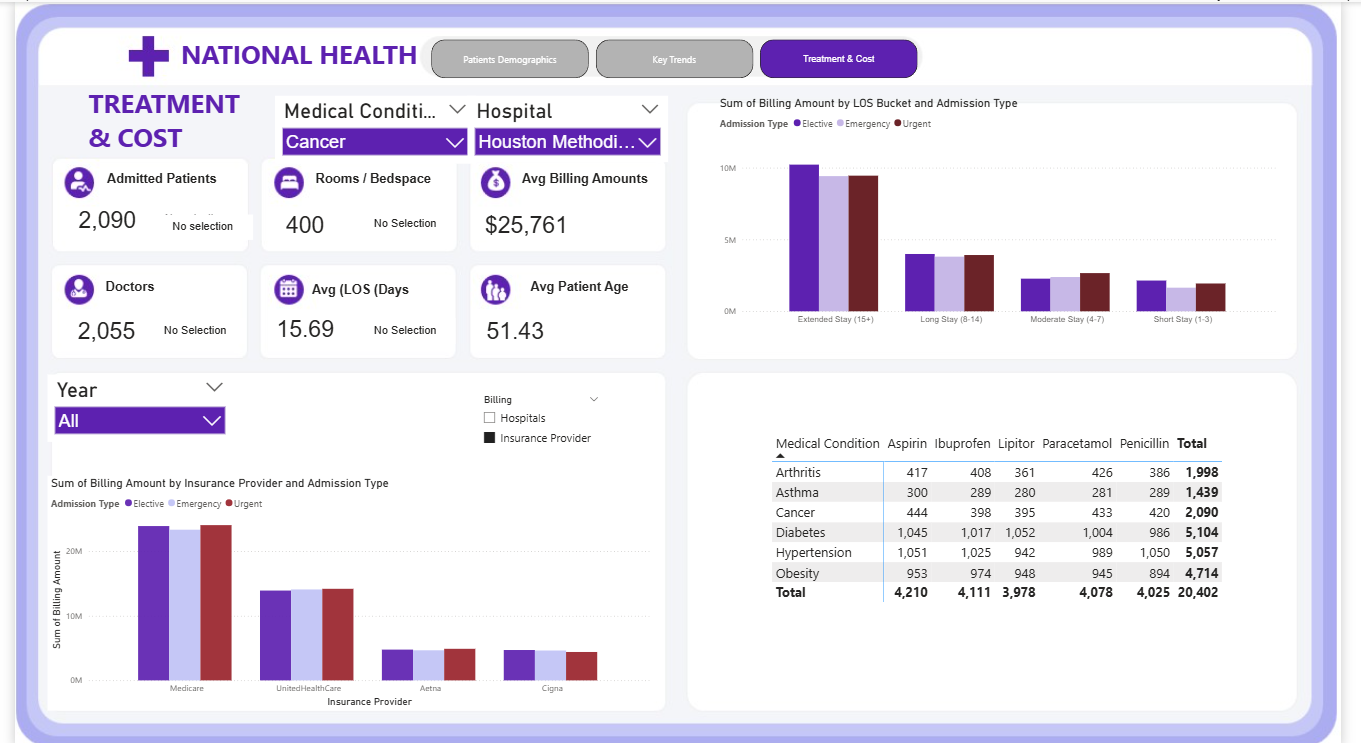

This screenshot's page, from the dashboard's own definition file:
{"tool":"powerbi","page":{"name":"Treatment & Cost","canvas":[1920,1080],"ordinal":2},"visuals":[{"type":"textbox","box":[122.9,240,191.4,44.3],"z":0},{"type":"textbox","box":[420,240,201.4,44.3],"z":1000},{"type":"textbox","box":[724.3,240,204.3,54.3],"z":2000},{"type":"textbox","box":[117.1,284.3,101.4,10],"z":3000},{"type":"textbox","box":[115.7,397.1,207.1,41.4],"z":4000},{"type":"textbox","box":[420,401.4,221.4,40],"z":5000},{"type":"textbox","box":[731.4,397.1,191.4,44.3],"z":6000},{"type":"card","fields":{"Values":["DAX.Rooms"]},"box":[334.3,288.6,171.4,68.6],"z":7000},{"type":"card","fields":{"Values":["DAX.Avg Billing Amt"]},"box":[655.7,288.6,171.4,68.6],"z":8000},{"type":"card","fields":{"Values":["DAX.Avg LOS"]},"box":[334.3,438.6,171.4,68.6],"z":9000},{"type":"card","fields":{"Values":["DAX.Average age"]},"box":[638.6,441.4,171.4,68.6],"z":10000},{"type":"card","fields":{"Values":["DAX.Adm YoY"]},"box":[188.6,297.1,145.7,37.1],"z":11000},{"type":"card","fields":{"Values":["DAX.Room YoY"]},"box":[492.9,304.3,145.7,37.1],"z":12000},{"type":"card","fields":{"Values":["DAX.Doc YoY"]},"box":[188.6,457.1,145.7,37.1],"z":13000},{"type":"card","fields":{"Values":["DAX.LOS YoY"]},"box":[492.9,457.1,145.7,37.1],"z":14000},{"type":"card","fields":{"Values":["DAX.Adm YoY"]},"box":[198.6,307.1,145.7,37.1],"z":15000},{"type":"slicer","fields":{"Values":["DimCondition.Medical Condition"]},"box":[376,136,290,98],"z":16000},{"type":"slicer","fields":{"Values":["HealthData.Hospital"]},"box":[656,136,290,96],"z":17000},{"type":"slicer","fields":{"Values":["Calendar.Year"]},"box":[47.5,540,267.5,97.5],"z":18000},{"type":"card","fields":{"Values":["DAX.Admitted Patients"]},"box":[48.6,288.6,170,52.9],"z":19000},{"type":"card","fields":{"Values":["DAX.Doctors"]},"box":[47.1,441.4,171.4,68.6],"z":20000},{"type":"clusteredColumnChart","fields":{"Category":["HealthData.LOS Bucket"],"Y":["Sum(HealthData.Billing Amount)"],"Series":["HealthData.Admission Type"]},"box":[1015,135,815,340],"z":21000},{"type":"slicer","fields":{"Values":["Billing.Billing"]},"box":[666.7,563.3,191.7,110],"z":22000},{"type":"clusteredColumnChart","fields":{"Category":["HealthData.Insurance Provider"],"Y":["Sum(HealthData.Billing Amount)"],"Series":["HealthData.Admission Type"]},"box":[47.5,685,877.5,340],"z":23000},{"type":"pivotTable","fields":{"Rows":["DimCondition.Medical Condition"],"Columns":["HealthData.Medication"],"Values":["DAX.Admitted Patients"]},"box":[1092,618,714,370],"z":24000},{"type":"textbox","box":[102,116,390,264],"z":25000},{"type":"pageNavigator","box":[602,54,704,56],"z":26000},{"type":"textbox","box":[236,46,366,72],"z":27000}]}

Visuals, with their boxes on the page's 1920x1080 design canvas (x1, y1, x2, y2). These are canvas units, not pixel positions in the 1361x743 screenshot, which may show the page scaled, cropped or inside an application window:
textbox: region(123, 240, 314, 284)
textbox: region(420, 240, 621, 284)
textbox: region(724, 240, 929, 294)
textbox: region(117, 284, 218, 294)
textbox: region(116, 397, 323, 438)
textbox: region(420, 401, 641, 441)
textbox: region(731, 397, 923, 441)
card - DAX.Rooms: region(334, 289, 506, 357)
card - DAX.Avg Billing Amt: region(656, 289, 827, 357)
card - DAX.Avg LOS: region(334, 439, 506, 507)
card - DAX.Average age: region(639, 441, 810, 510)
card - DAX.Adm YoY: region(189, 297, 334, 334)
card - DAX.Room YoY: region(493, 304, 639, 341)
card - DAX.Doc YoY: region(189, 457, 334, 494)
card - DAX.LOS YoY: region(493, 457, 639, 494)
card - DAX.Adm YoY: region(199, 307, 344, 344)
slicer - DimCondition.Medical Condition: region(376, 136, 666, 234)
slicer - HealthData.Hospital: region(656, 136, 946, 232)
slicer - Calendar.Year: region(48, 540, 315, 638)
card - DAX.Admitted Patients: region(49, 289, 219, 342)
card - DAX.Doctors: region(47, 441, 218, 510)
clusteredColumnChart - HealthData.LOS Bucket x Sum(HealthData.Billing Amount): region(1015, 135, 1830, 475)
slicer - Billing.Billing: region(667, 563, 858, 673)
clusteredColumnChart - HealthData.Insurance Provider x Sum(HealthData.Billing Amount): region(48, 685, 925, 1025)
pivotTable - DimCondition.Medical Condition x HealthData.Medication: region(1092, 618, 1806, 988)
textbox: region(102, 116, 492, 380)
pageNavigator: region(602, 54, 1306, 110)
textbox: region(236, 46, 602, 118)
